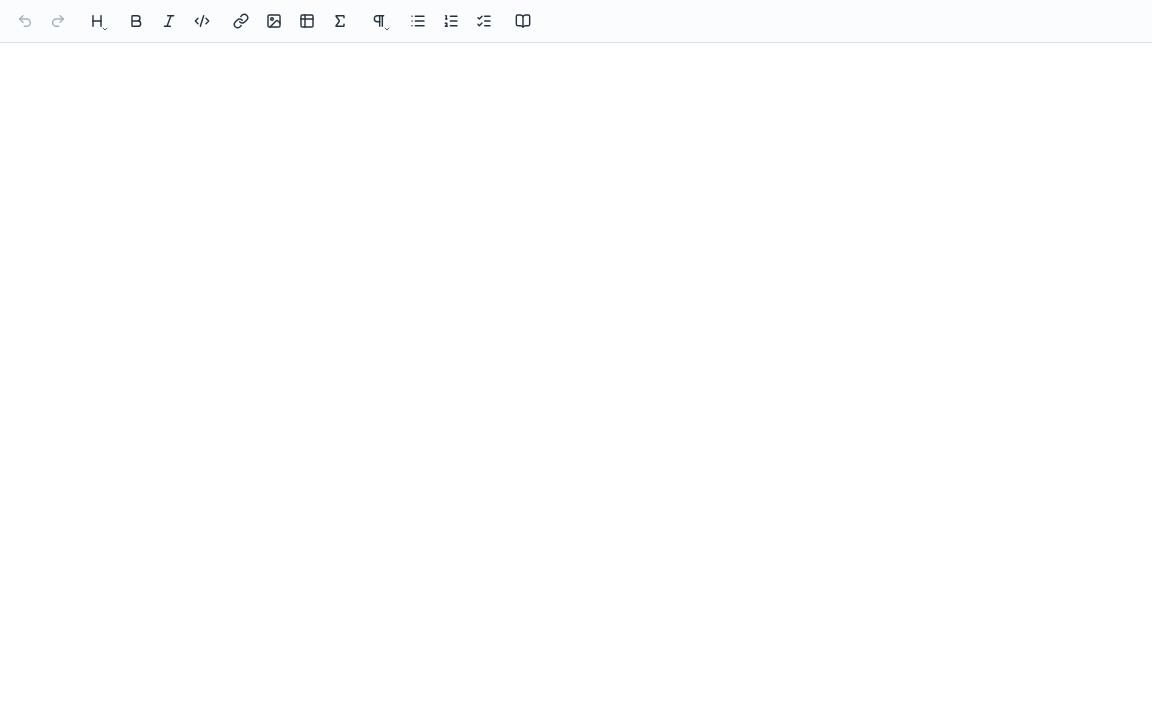
Test: MarkdownEditor › supports keyboard navigation between syntax category tabs
The image size is (1152, 720).
Click the button named "Markdown syntax reference".
click(523, 21)  # box [508,6,538,36]
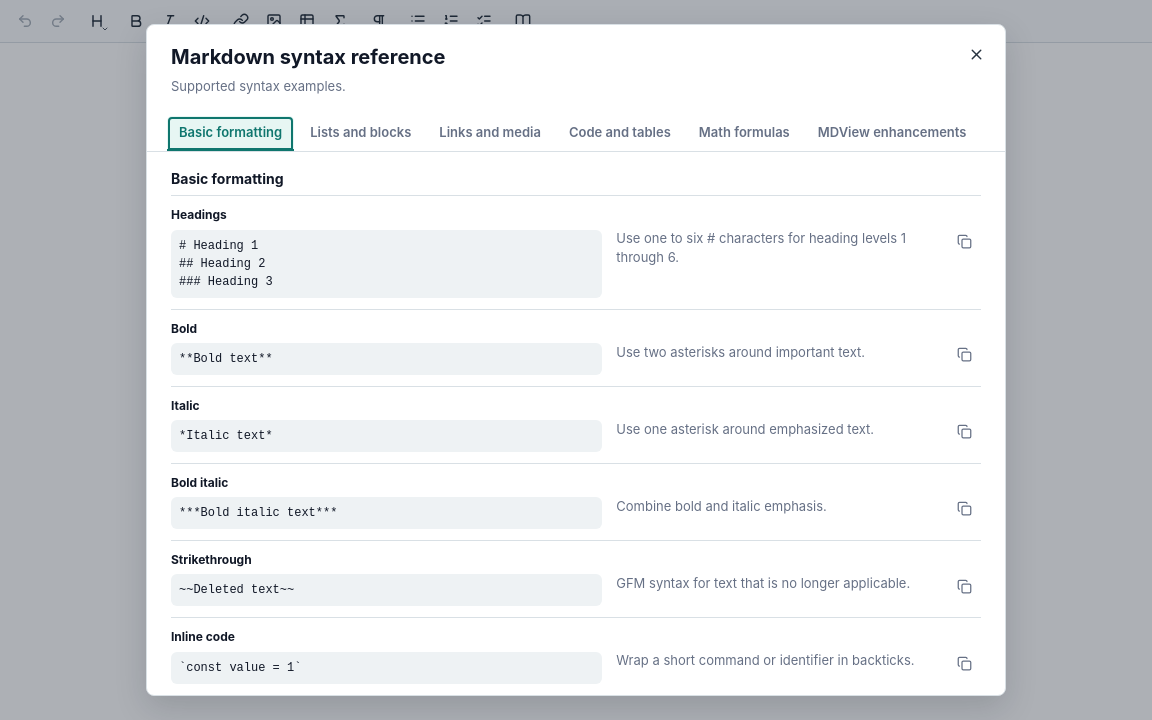
Press ArrowRight in the tab "Basic formatting", box [167,116,294,150]
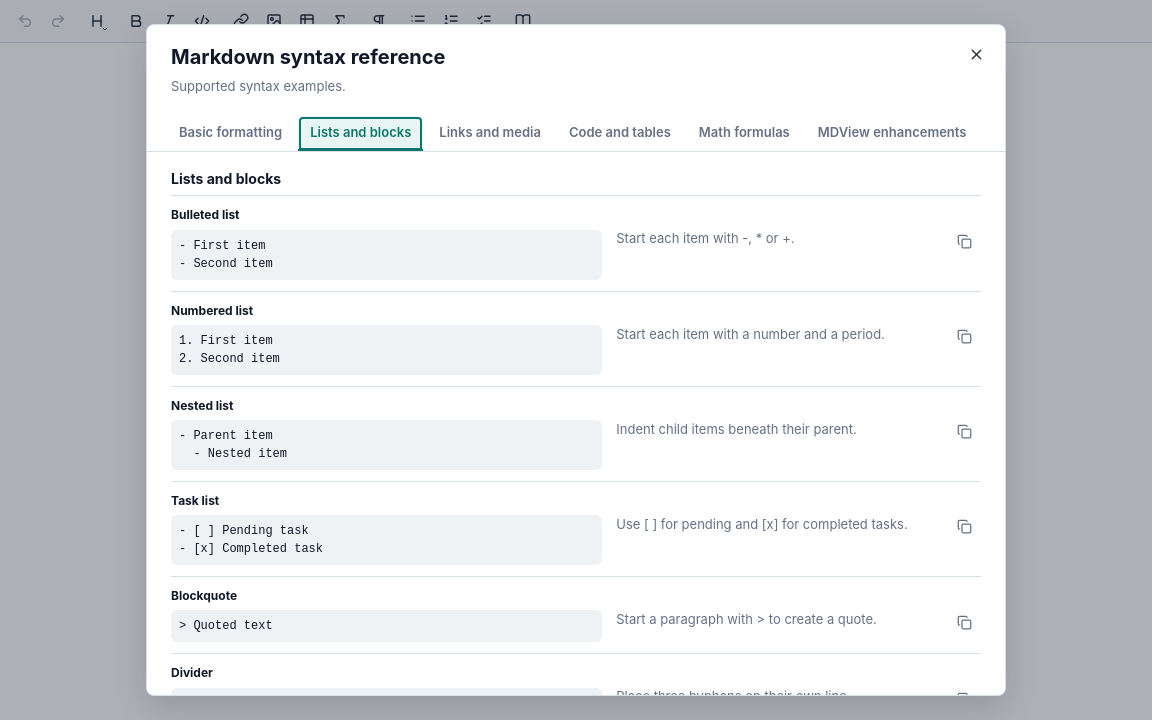
expect the heading "Lists and blocks" is shown: met, box [171,170,281,186]
Press End in the tab "Lists and blocks", box [298,116,423,150]
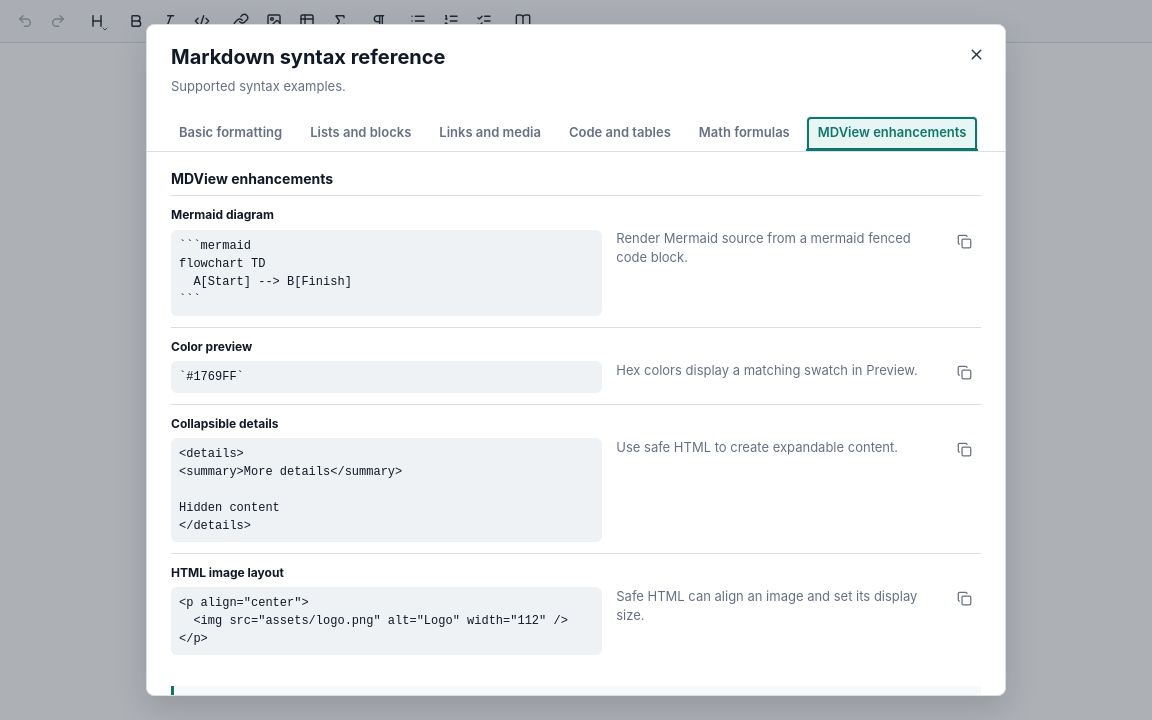
expect the text "Mermaid diagram" is shown: met, box [171,207,274,222]
